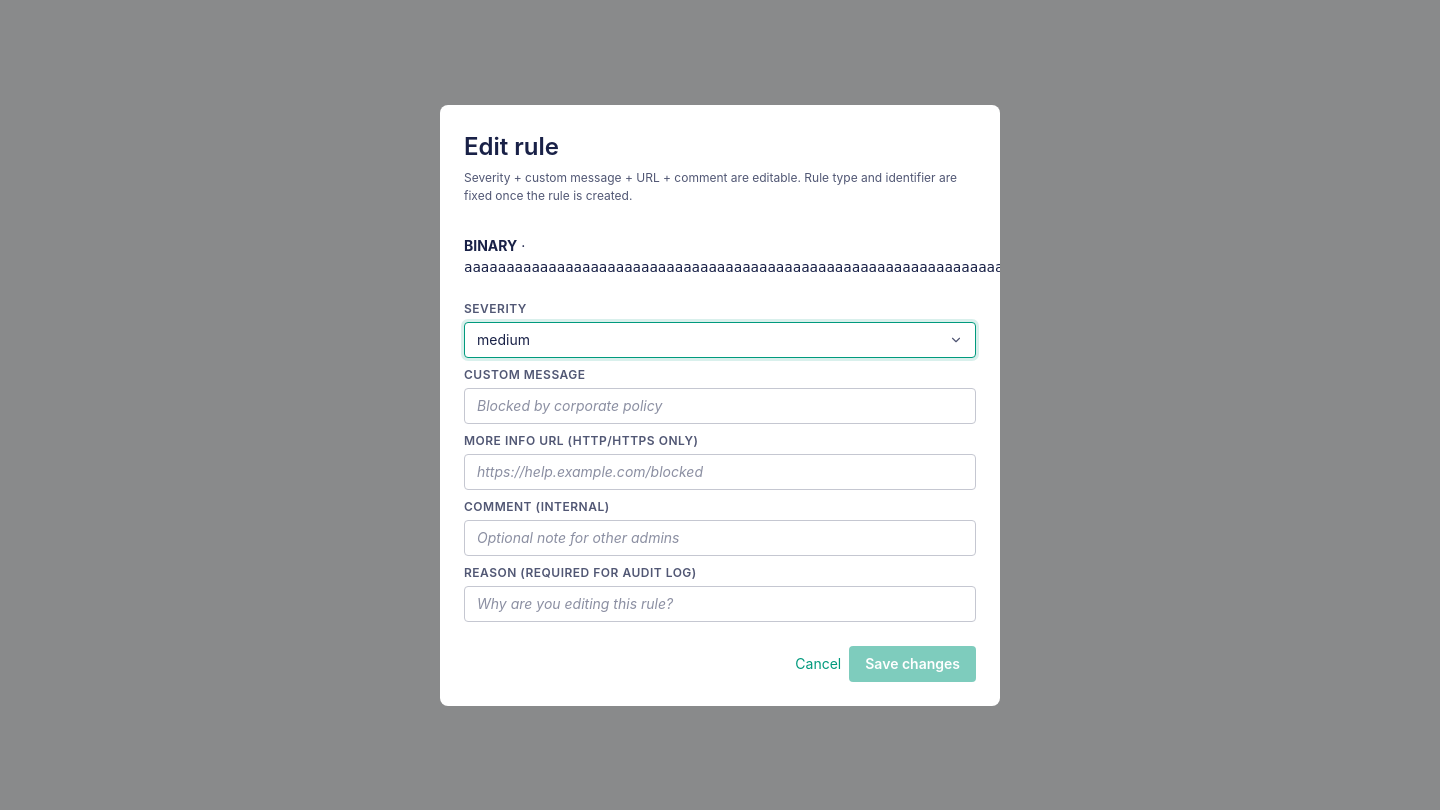
Scenario: EditRuleModal › surfaces a typed AppControlApiError as an inline form error
Select "critical" in the dropdown labelled "Severity" at (720, 340), box x1=464 y1=322 x2=976 y2=358
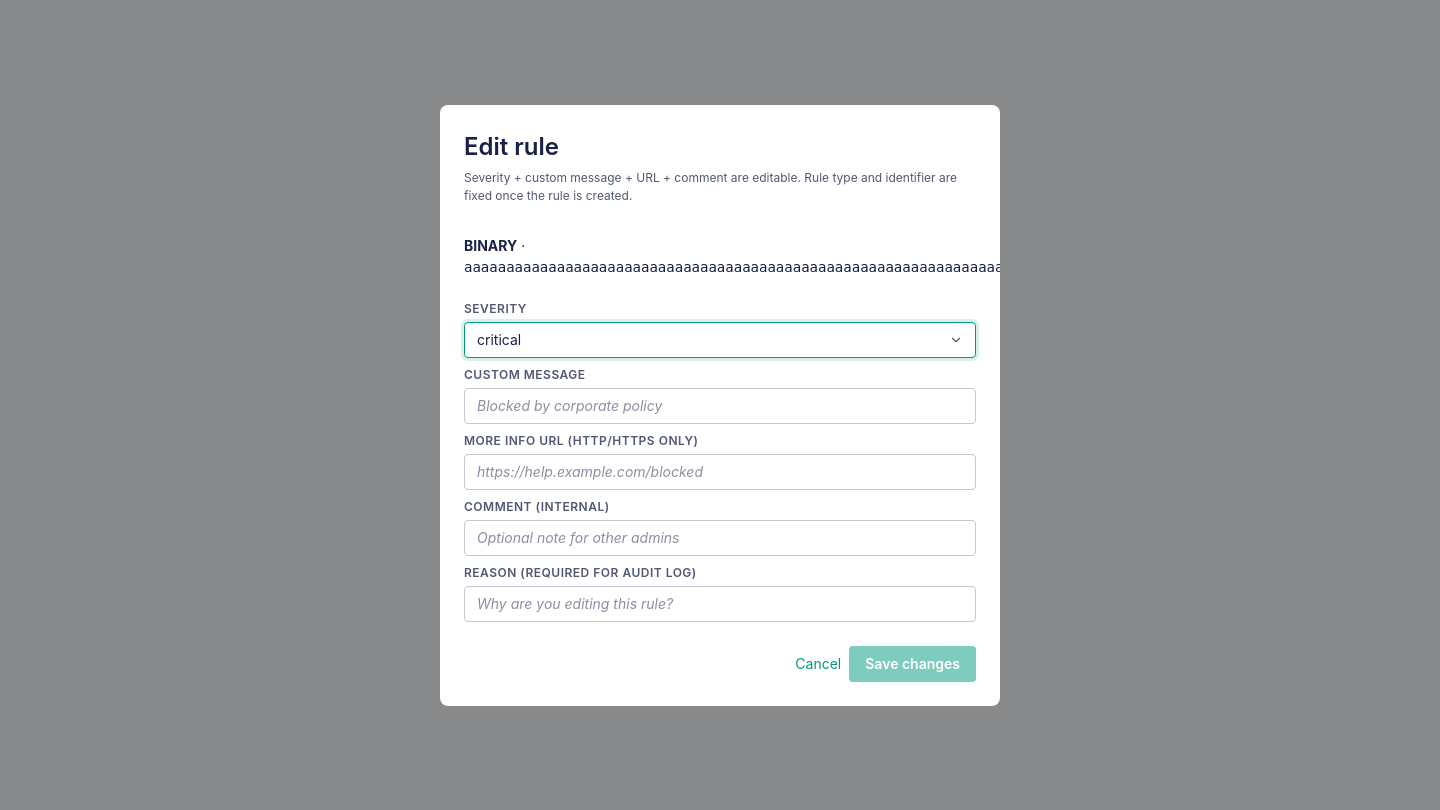
Type "x" into the field labelled "Reason (required for audit log)" at (720, 604), box x1=464 y1=586 x2=976 y2=622
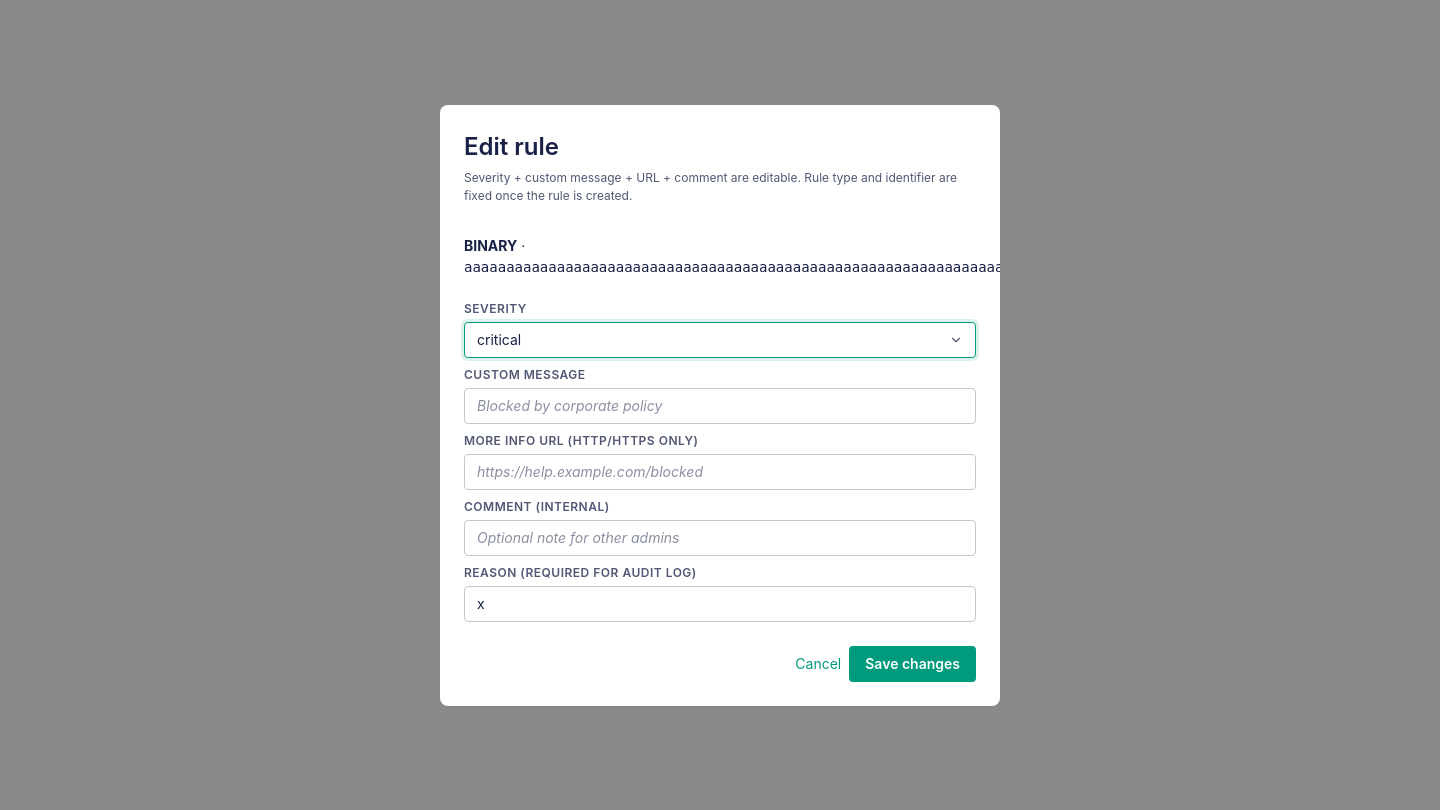
Click the button "Save changes" at (913, 664), box x1=849 y1=646 x2=976 y2=682
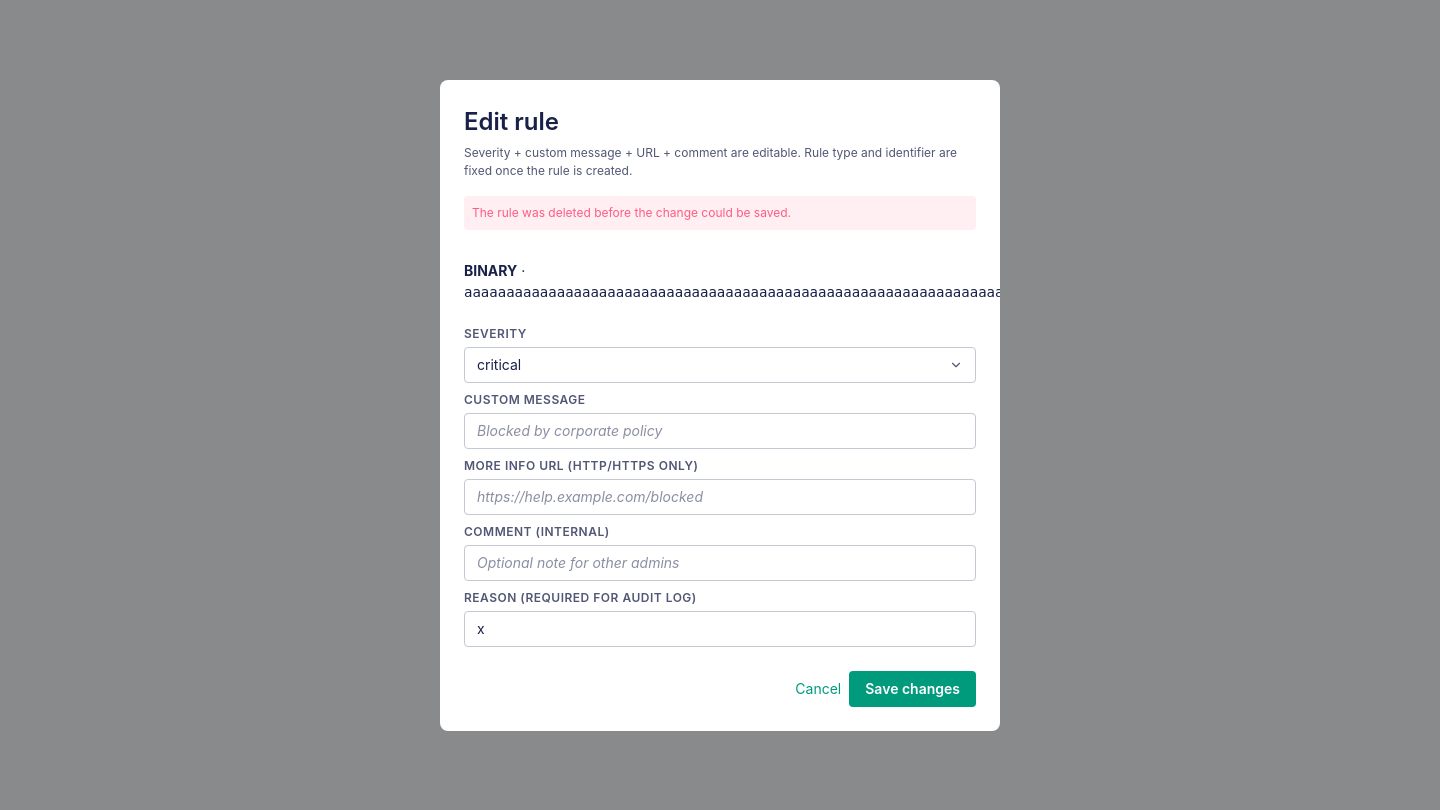
Check: the message shows "rule was deleted", box x1=472 y1=204 x2=791 y2=220
